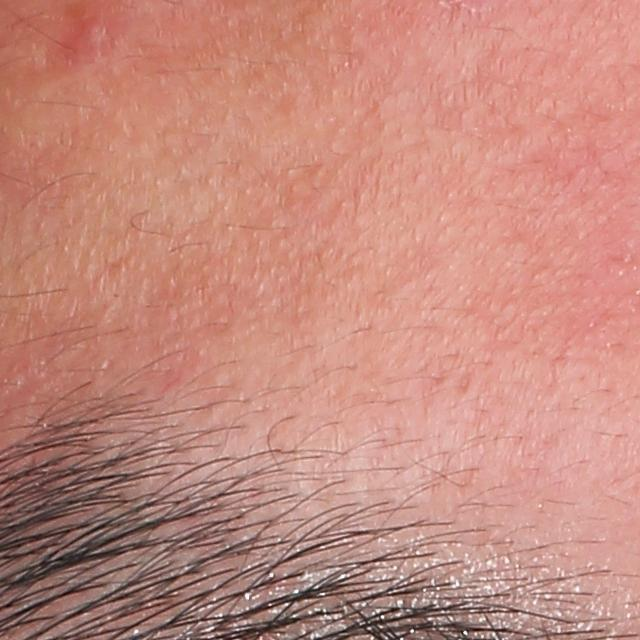papule: (74, 4, 116, 57)
